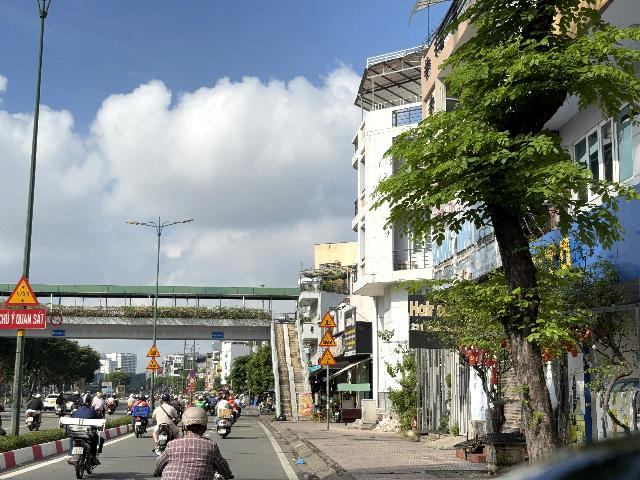chieu-cao-tinh-khong-thuc-te: (6, 275, 39, 306), (317, 348, 338, 366)
di-cham: (318, 330, 337, 347), (145, 357, 160, 369)
han-che-chieu-cao: (50, 314, 63, 326)
noi-giao-nhau-voi-duong-sat-co-rao-chan: (318, 311, 337, 328), (146, 344, 161, 357)
